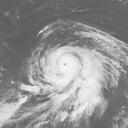cyclone: (40, 45, 98, 92)
